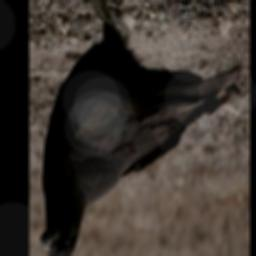Crow: (41, 0, 244, 256)
